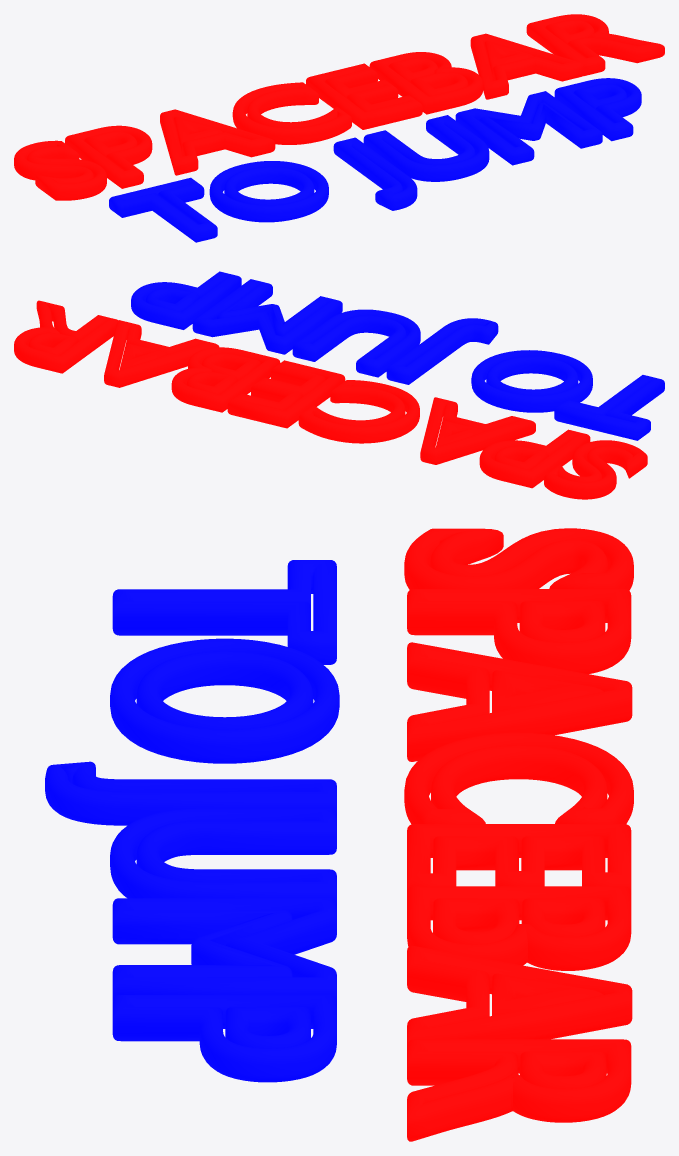
File: SPACE_TO_JUMP.gltf
3 views of the same model, one above another, from view 1: azimuth 30°, elevation 25°; view 2: azimuth 150°, elevation 25°; view 3: azimuth 270°, elevation 25° (orthographic). The views are drawn at different scales.
Visible parts, largest first — view 1: Text; view 2: Text; view 3: Text.
Boxes of the visible parts, x1,y1,x2,y2 form: Text: (14, 14, 664, 242); Text: (14, 271, 664, 499); Text: (45, 528, 633, 1141).
Bounding box in the file's own units: 4.76 × 0.12 × 2.
